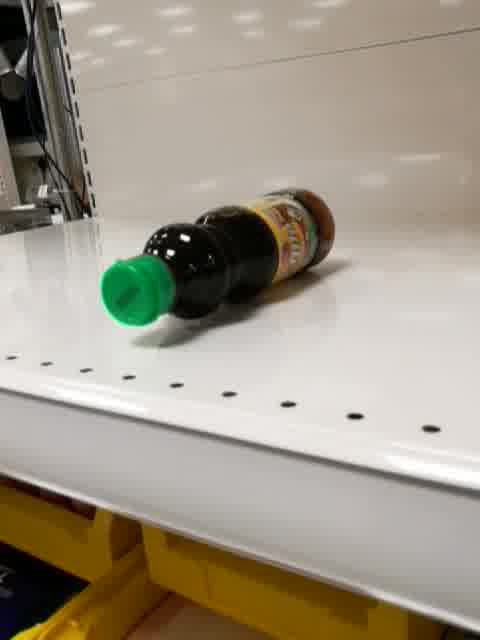cookingoil: (99, 185, 343, 331)
